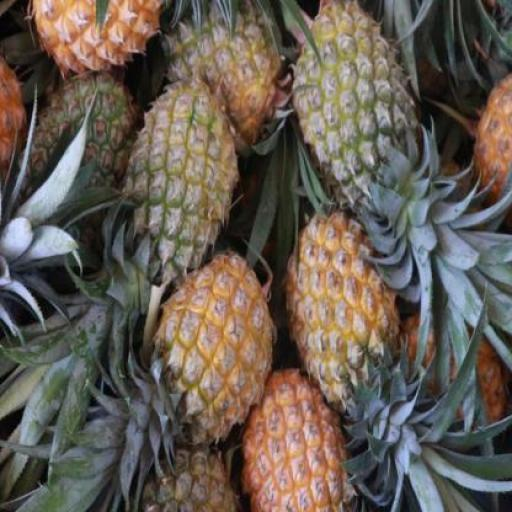------------------------------: (290, 0, 410, 214), (126, 84, 232, 280), (164, 2, 282, 144)
Pineapple - v8 v1: (284, 211, 393, 407), (160, 249, 272, 437), (244, 365, 357, 512)
